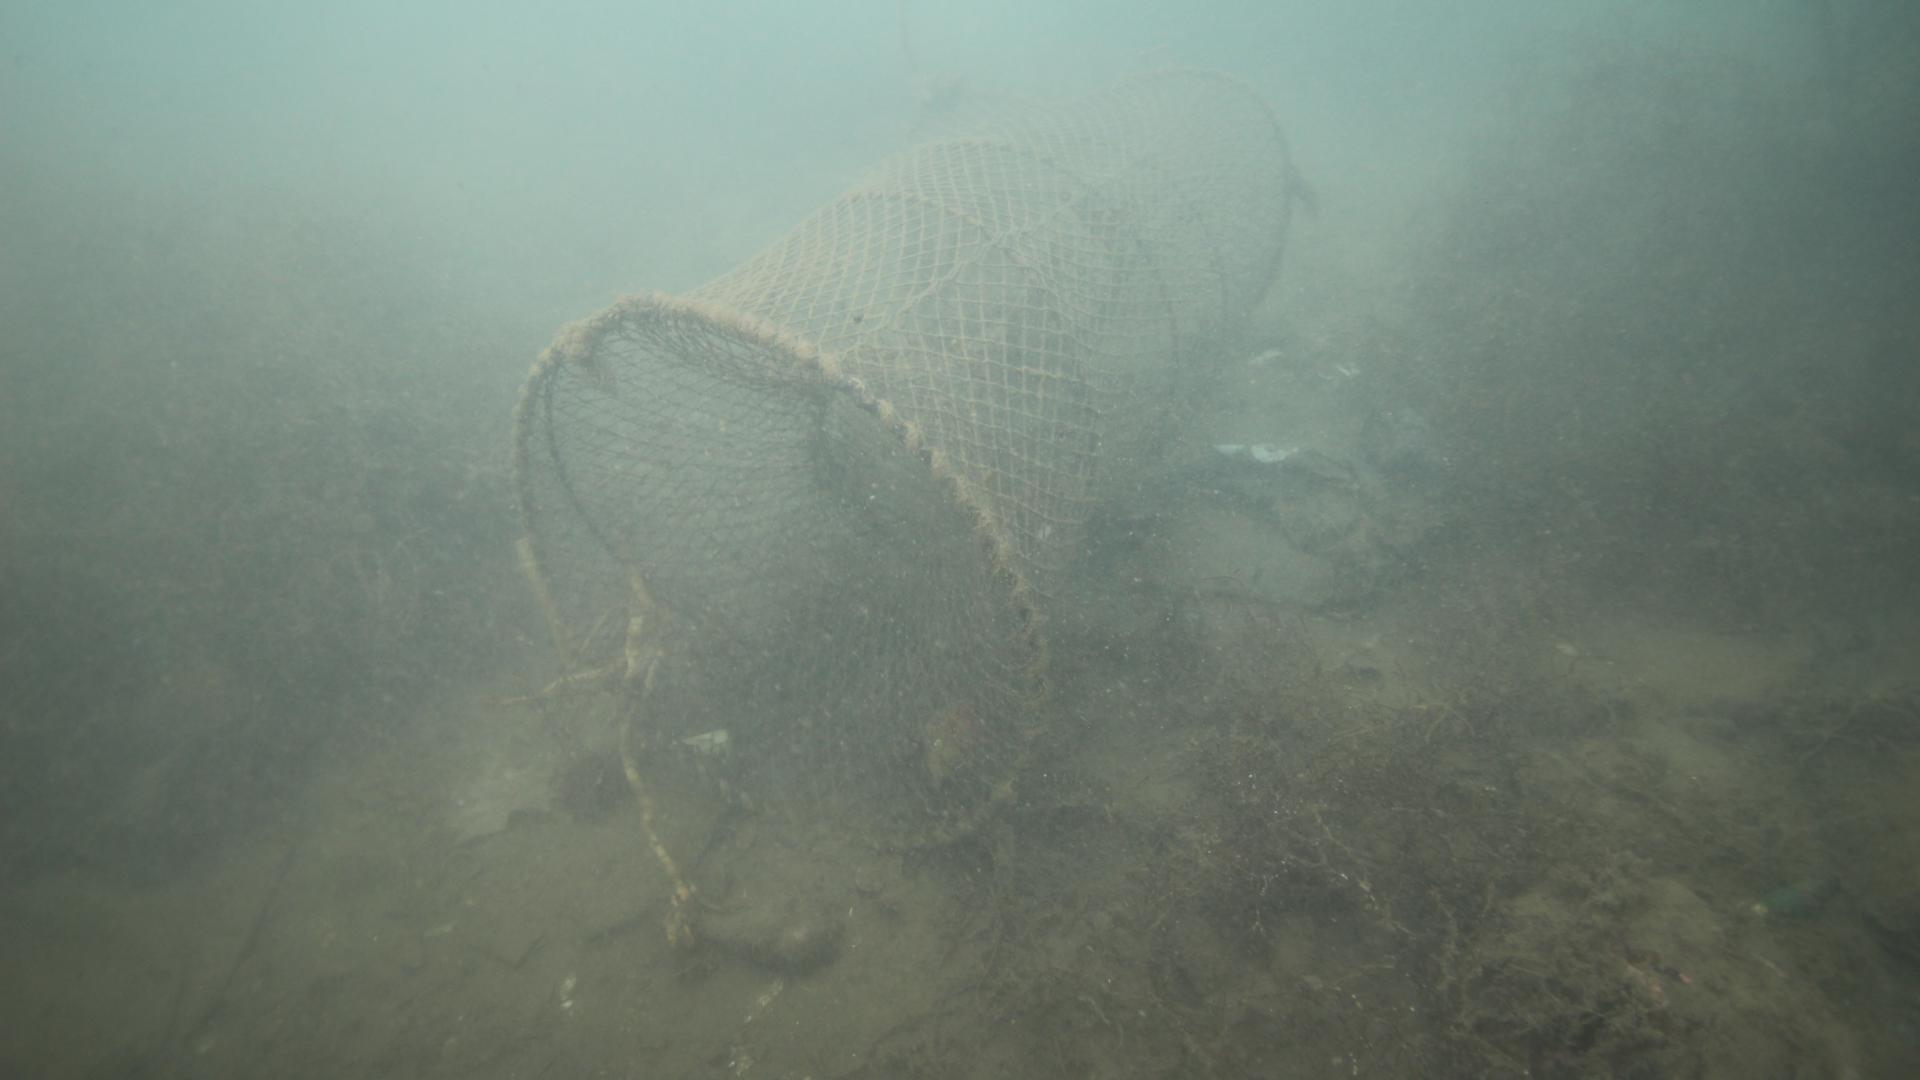spring fish trap: (505, 67, 1294, 852)
